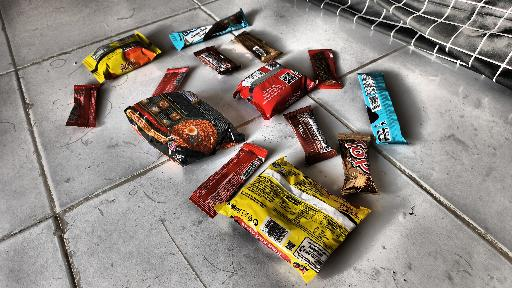chocho: (304, 46, 345, 93), (68, 80, 106, 128), (146, 65, 189, 98)
dilan: (355, 69, 412, 148), (164, 10, 251, 52)
indomie: (222, 153, 369, 283)
mie sedap: (116, 89, 238, 160)
momotaro: (229, 56, 314, 118), (78, 26, 165, 84)
top: (334, 127, 380, 199), (281, 107, 337, 164), (188, 42, 242, 77), (233, 30, 280, 63)
